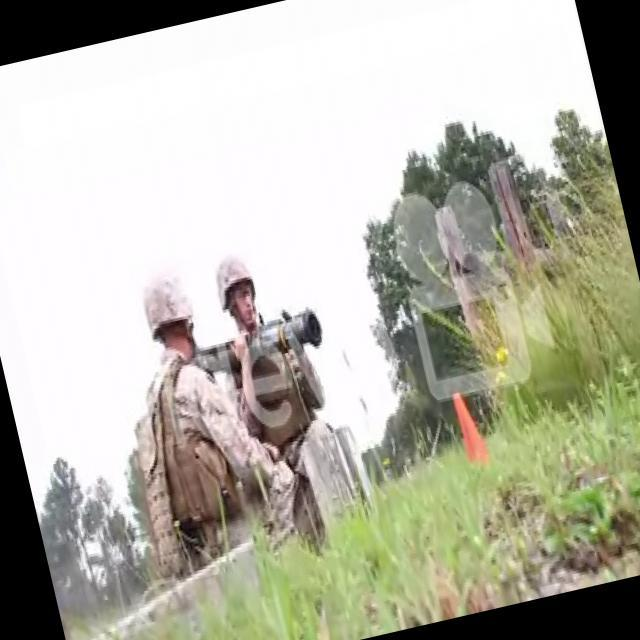rocket: (198, 307, 325, 373)
